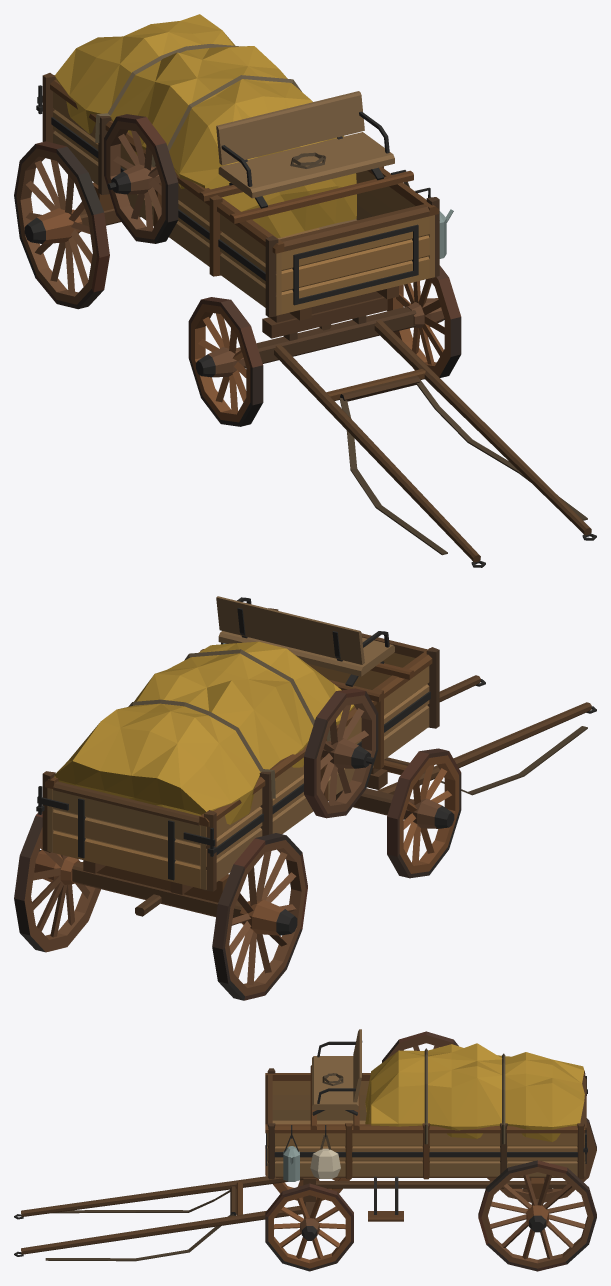
The model's file is wagon_covered.glb.
3 views of the same model, one above another, from view 1: azimuth 30°, elevation 25°; view 2: azimuth 150°, elevation 25°; view 3: azimuth 270°, elevation 25° (orthographic). The views are drawn at different scales.
Visible parts, largest first — view 1: buckboard-wagon-mesh, load-mesh, steer-front-mesh, wheel-rr-mesh, wheel-fr-mesh, spare-wheel-mesh, wheel-fl-mesh; view 2: load-mesh, buckboard-wagon-mesh, tailgate-mesh, wheel-rr-mesh, wheel-fr-mesh, spare-wheel-mesh, wheel-rl-mesh, steer-front-mesh; view 3: buckboard-wagon-mesh, load-mesh, wheel-rl-mesh, steer-front-mesh, wheel-fl-mesh, wheel-rr-mesh, feed-bag-mesh, spare-wheel-mesh, water-can-mesh, wheel-fr-mesh.
Part boxes in pixels (x1,y1,x2,y2): buckboard-wagon-mesh: (36, 73, 439, 330); load-mesh: (54, 14, 356, 238); steer-front-mesh: (238, 296, 596, 567); wheel-rr-mesh: (14, 141, 109, 309); wheel-fr-mesh: (188, 297, 263, 426); spare-wheel-mesh: (104, 114, 178, 243); wheel-fl-mesh: (387, 265, 461, 377); load-mesh: (54, 641, 354, 824); buckboard-wagon-mesh: (36, 596, 439, 923); tailgate-mesh: (37, 781, 215, 888); wheel-rr-mesh: (212, 833, 307, 1000); wheel-fr-mesh: (387, 748, 461, 878); spare-wheel-mesh: (304, 688, 378, 818); wheel-rl-mesh: (14, 812, 100, 952); steer-front-mesh: (328, 675, 596, 819); buckboard-wagon-mesh: (265, 1029, 587, 1221); load-mesh: (365, 1043, 584, 1144); wheel-rl-mesh: (478, 1160, 596, 1271); steer-front-mesh: (14, 1176, 315, 1261); wheel-fl-mesh: (265, 1183, 353, 1271); wheel-rr-mesh: (487, 1118, 596, 1202); feed-bag-mesh: (310, 1135, 340, 1178); spare-wheel-mesh: (382, 1031, 458, 1062); water-can-mesh: (283, 1135, 299, 1181); wheel-fr-mesh: (265, 1145, 350, 1200).
Size of the model in its own units: 2 by 1.91 by 5.5.
